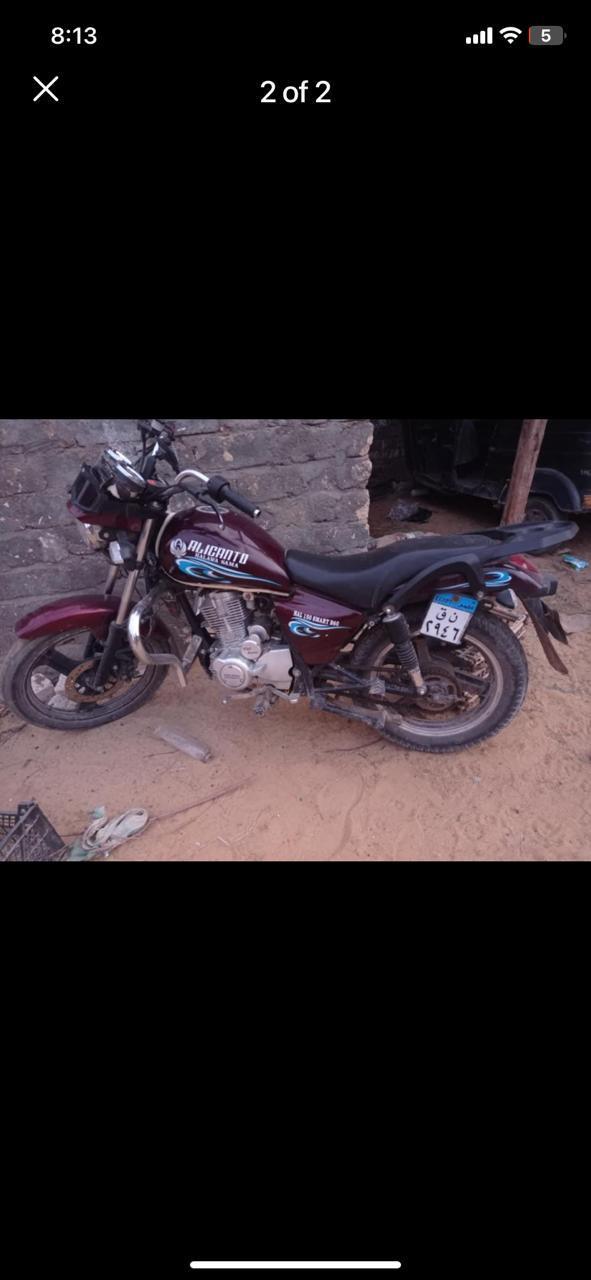License Plate: (421, 589, 478, 647)
